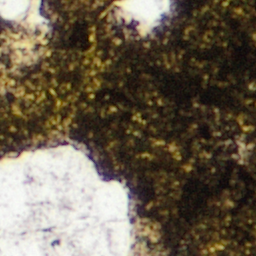cement_matrix: (0, 0, 255, 255), (0, 19, 13, 47)
gravel_crushed_stones: (0, 141, 154, 255), (0, 0, 50, 68), (112, 0, 172, 35), (0, 71, 9, 89)
